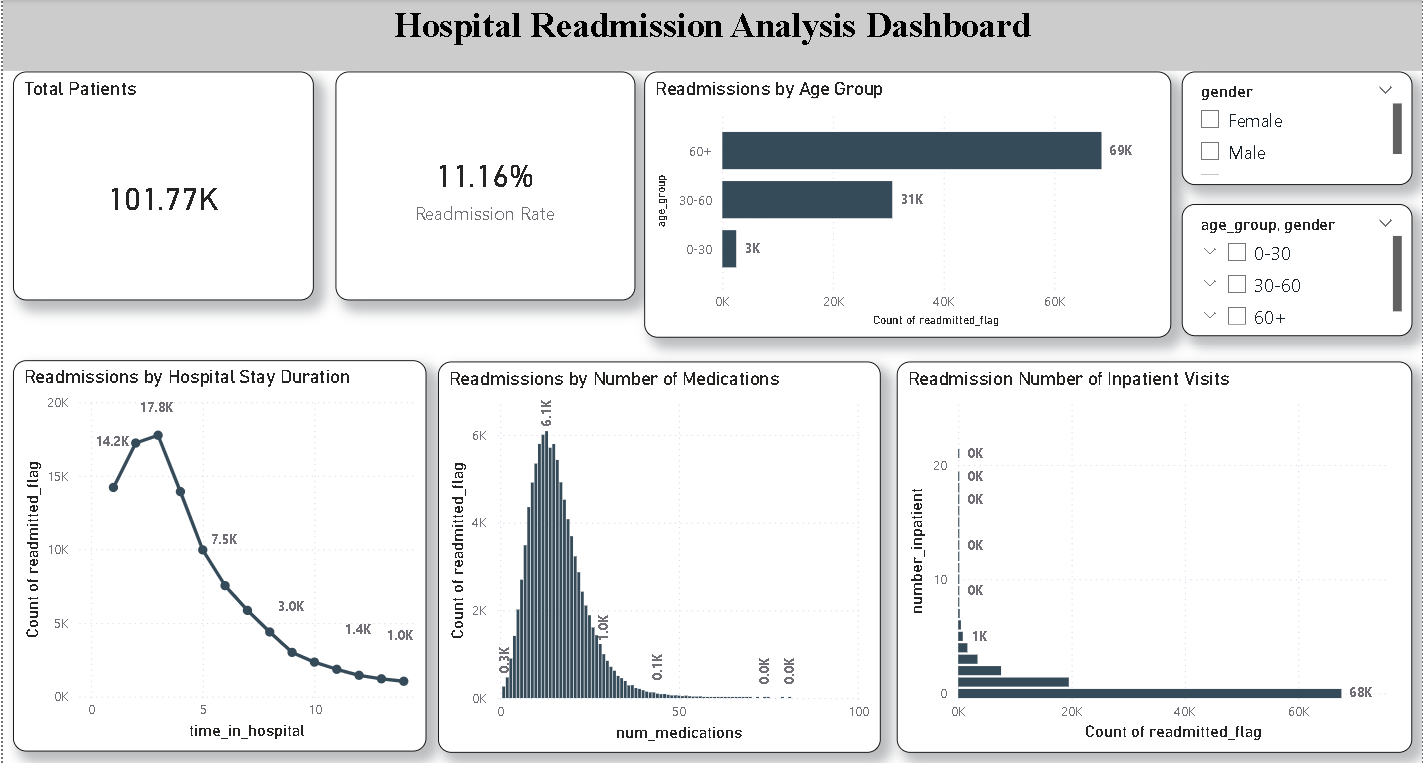

The page's visual inventory and layout, read from the dashboard file:
{"tool":"powerbi","page":{"name":"Hospital Readmission Analysis Dashboard","canvas":[1280,720],"ordinal":0},"visuals":[{"type":"card","title":"Total Patients","fields":{"Values":["CountNonNull(cleaned_diabetic_data.readmitted_flag)"]},"box":[9.5,64.8,271.5,206.6],"z":0},{"type":"card","fields":{"Values":["select","cleaned_diabetic_data.Readmission Rate"]},"box":[299.8,64.8,270.1,206.6],"z":1000},{"type":"barChart","title":"Readmissions by Age Group","fields":{"Category":["cleaned_diabetic_data.age_group"],"Y":["CountNonNull(cleaned_diabetic_data.readmitted_flag)"]},"box":[578,64.8,475.4,240.4],"z":2000},{"type":"lineChart","title":"Readmissions by Hospital Stay Duration","fields":{"Category":["cleaned_diabetic_data.time_in_hospital"],"Y":["CountNonNull(cleaned_diabetic_data.readmitted_flag)"]},"box":[9.5,325.5,372.7,352.5],"z":3000},{"type":"columnChart","title":" Readmissions by Number of Medications ","fields":{"Category":["cleaned_diabetic_data.num_medications"],"Y":["CountNonNull(cleaned_diabetic_data.readmitted_flag)"]},"box":[392.5,326.6,399.3,352.7],"z":4000},{"type":"barChart","title":" Readmission Number of Inpatient Visits","fields":{"Category":["cleaned_diabetic_data.number_inpatient"],"Y":["CountNonNull(cleaned_diabetic_data.readmitted_flag)"]},"box":[806.2,326.8,464.6,352.5],"z":5000},{"type":"slicer","fields":{"Values":["cleaned_diabetic_data.age_group","cleaned_diabetic_data.gender"]},"box":[1062.8,185,208,118.8],"z":6000},{"type":"slicer","fields":{"Values":["cleaned_diabetic_data.gender"]},"box":[1062.8,64.8,208,102.6],"z":7000},{"type":"textbox","box":[0,0,1280.3,64.5],"z":9000}]}

Visuals, with their boxes in screenshot pixels (x1, y1, x2, y2):
"Total Patients" card: <box>33,70,327,294</box>
card - select x cleaned_diabetic_data.Readmission Rate: <box>347,70,640,294</box>
"Readmissions by Age Group" barChart: <box>649,70,1164,331</box>
"Readmissions by Hospital Stay Duration" lineChart: <box>33,353,437,735</box>
" Readmissions by Number of Medications " columnChart: <box>448,354,881,736</box>
" Readmission Number of Inpatient Visits" barChart: <box>896,354,1400,736</box>
slicer - cleaned_diabetic_data.age_group x cleaned_diabetic_data.gender: <box>1174,201,1400,329</box>
slicer - cleaned_diabetic_data.gender: <box>1174,70,1400,181</box>
textbox: <box>22,0,1410,70</box>
